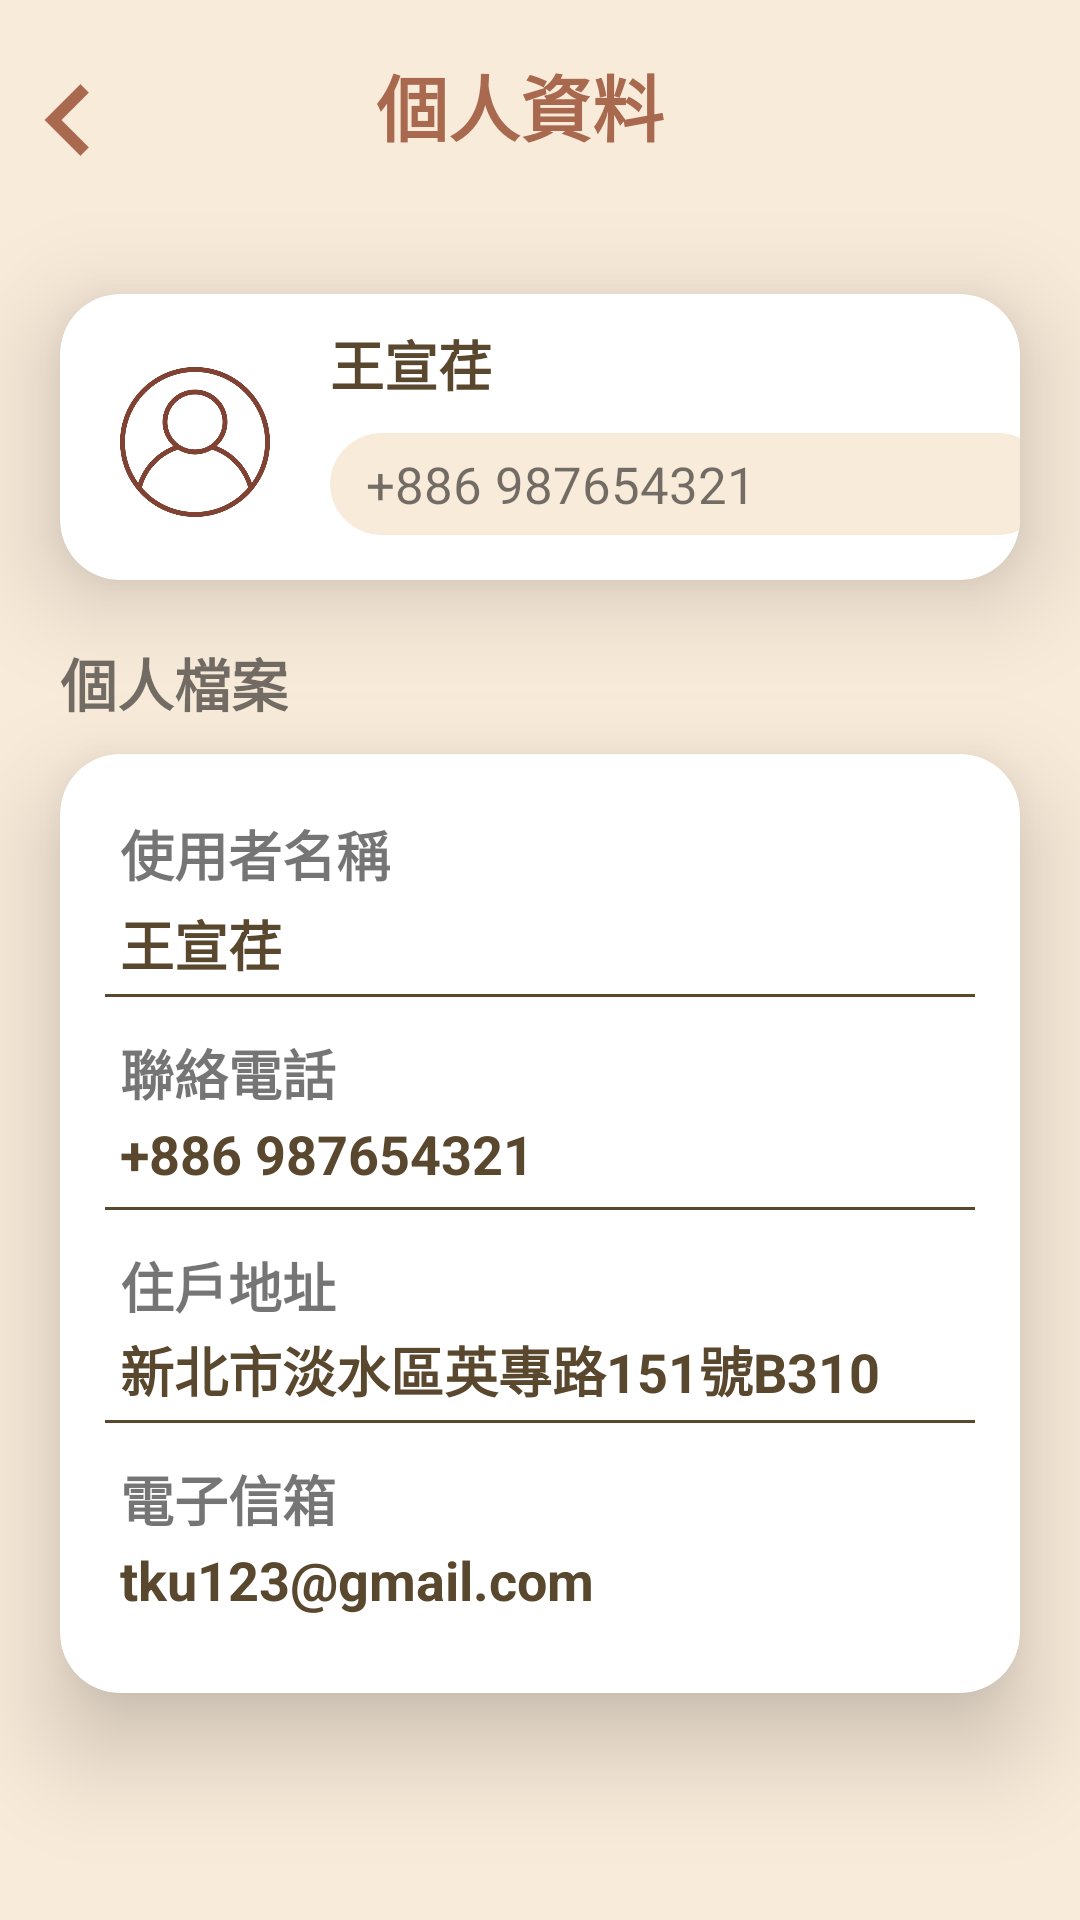

Named icons in this screenshot (1080px×1920px) and their centers, (x,y):
previous page: (67,120)
user: (195,442)
